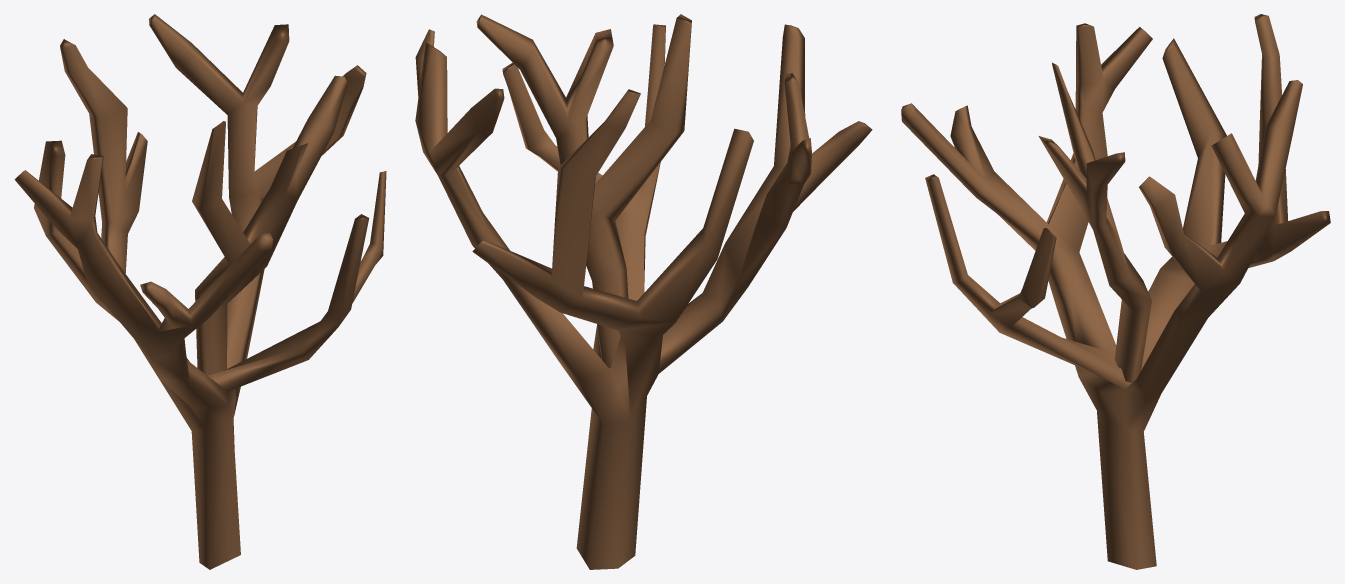
File: Bush_C.fbx
3 views of the same model, side by side, from view 1: azimuth 30°, elevation 25°; view 2: azimuth 150°, elevation 25°; view 3: azimuth 270°, elevation 25° (orthographic). The views are drawn at different scales.
Parts seen in each view (by area): view 1: Bush_C; view 2: Bush_C; view 3: Bush_C.
Boxes of the visible parts, x1,y1,x2,y2 form: Bush_C: [14, 14, 386, 569]; Bush_C: [415, 14, 872, 569]; Bush_C: [901, 14, 1330, 569].
Bounding box in the file's own units: 103 × 138 × 105.
